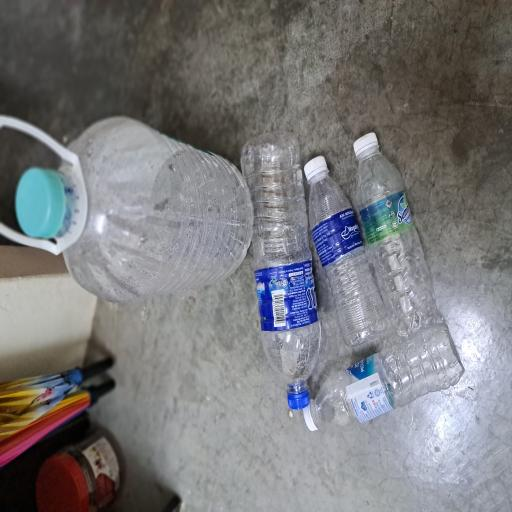plastic bottle: (163, 82, 300, 336), (103, 318, 289, 423), (114, 412, 256, 510), (60, 429, 145, 512), (148, 472, 275, 512)
plastic bottle cap: (205, 16, 262, 94), (58, 396, 88, 426), (253, 400, 274, 438), (268, 468, 288, 502), (79, 380, 94, 412)
